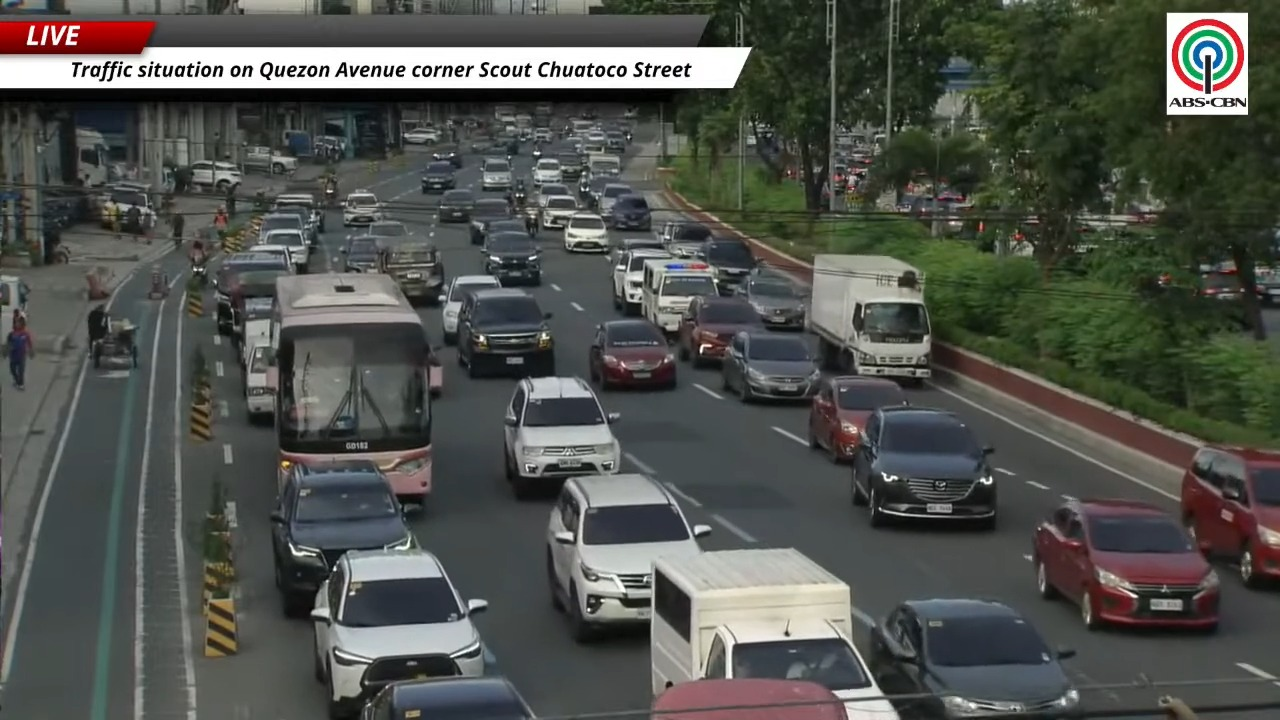bus: (269, 273, 432, 505)
car: (310, 549, 487, 716), (546, 474, 711, 641), (869, 599, 1081, 718), (1032, 499, 1219, 631), (271, 465, 416, 616), (852, 406, 997, 529), (504, 375, 619, 498), (1180, 445, 1279, 587), (457, 288, 554, 377), (808, 376, 908, 462), (361, 675, 534, 719), (721, 329, 820, 402), (213, 249, 292, 335), (588, 318, 676, 389), (676, 296, 763, 366), (376, 236, 445, 302), (440, 275, 499, 344), (612, 248, 669, 315), (736, 275, 806, 329), (482, 228, 541, 285), (697, 237, 757, 293), (272, 192, 325, 244), (243, 345, 274, 423), (271, 201, 320, 246), (261, 229, 309, 273), (470, 198, 513, 244), (660, 221, 711, 257), (609, 236, 668, 267), (563, 212, 608, 252), (190, 161, 241, 193), (609, 194, 651, 231), (255, 212, 306, 242), (343, 189, 383, 226), (539, 195, 580, 230), (580, 172, 616, 211), (340, 235, 377, 272), (597, 182, 634, 216), (251, 243, 295, 271), (437, 190, 475, 222), (421, 161, 455, 193), (481, 158, 513, 190), (485, 218, 529, 241), (363, 220, 410, 238), (533, 157, 562, 186), (556, 152, 584, 180), (538, 182, 573, 203), (402, 126, 440, 144), (432, 149, 463, 168), (605, 131, 626, 154), (533, 127, 553, 142)
motorcycle: (191, 260, 207, 285), (513, 191, 527, 210), (578, 178, 589, 198), (532, 148, 542, 159), (625, 131, 632, 142), (506, 153, 512, 163)
truck: (650, 548, 896, 719), (806, 255, 931, 383), (651, 679, 846, 719), (75, 127, 109, 187), (242, 147, 297, 174)
